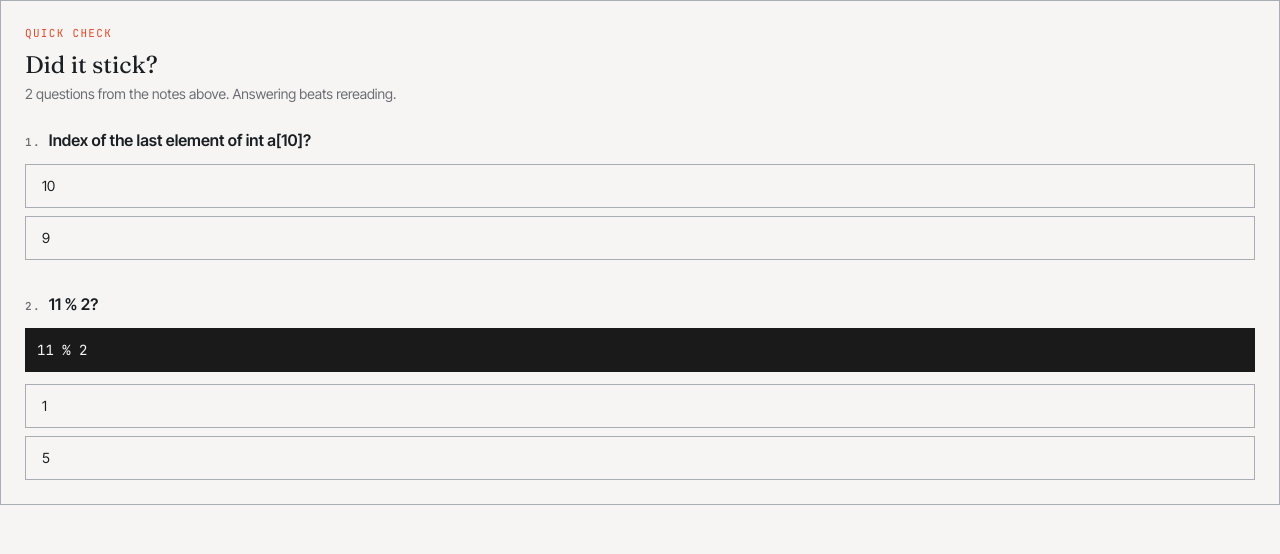
Scenario: QuickCheck › logs a wrong answer and points at the right one
This screenshot has width=1280, height=554.
What coordinates should you click on to do the following:
click the button "5"
I would click on:
 (46, 457)
Its box is [25, 436, 1255, 480].
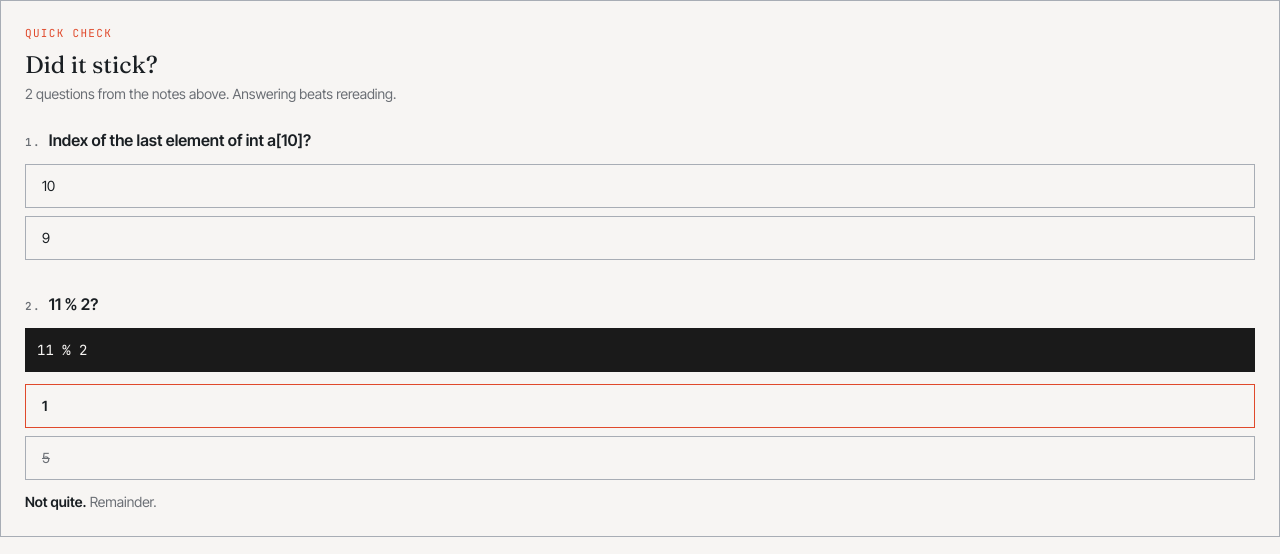
Check: the button "1" is shown, box [25, 384, 1255, 428]
Check: the message reads "Not quite. Remainder.", box [25, 492, 157, 510]
